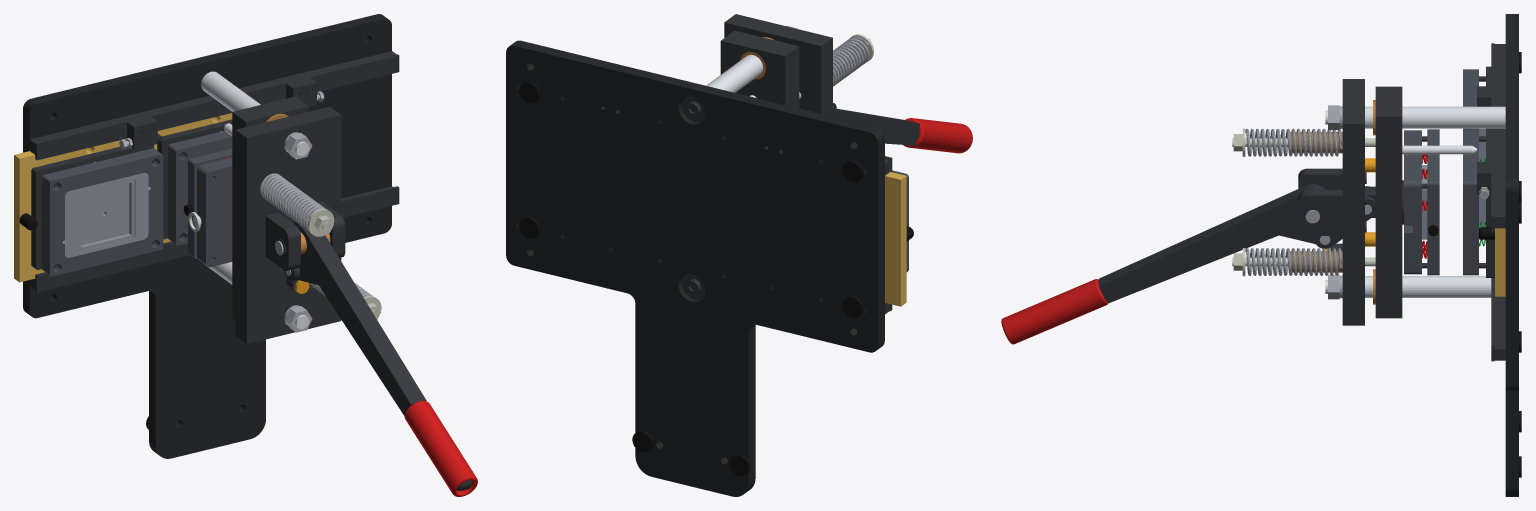
File: MagPress-M4_assembly.obj
3 renders of one model, left to right at view 1: azimuth 30°, elevation 25°; view 2: azimuth 150°, elevation 25°; view 3: azimuth 270°, elevation 25°, orthographic. The views are drawn at different scales.
Visible parts, largest first — view 1: MP-101_1, MP-108_1, MP-211-A_1, MP-113_1, MP-103-B_1, MP-201_1, MP-105_1, MP-207-6363_1, BUY-30_1, MP-103-F_1, MP-211-B_1, MP-206-6363_1 (+11 smaller); view 2: MP-101_1, MP-108_1, MP-109_1, MP-105_1, BUY-30_1, MP-113_1, BUY-20_2, MP-107_2; view 3: MP-113_1, MP-101_1, MP-109_1, MP-108_1, BUY-30_1, MP-107_2, MP-201_1, MP-211-B_1, MP-107_1, BUY-20_1, BUY-20_2, MP-102-B_1 (+11 smaller).
Boxes of the visible parts, x1,y1,x2,y2 form: MP-101_1: (23, 14, 391, 458); MP-108_1: (235, 106, 341, 343); MP-211-A_1: (42, 148, 163, 276); MP-113_1: (297, 226, 472, 491); MP-103-B_1: (35, 54, 399, 160); MP-201_1: (197, 157, 232, 267); MP-105_1: (14, 113, 232, 282); MP-207-6363_1: (65, 173, 148, 257); BUY-30_1: (404, 401, 477, 496); MP-103-F_1: (35, 186, 399, 292); MP-211-B_1: (168, 131, 232, 245); MP-206-6363_1: (81, 183, 129, 245); MP-101_1: (506, 40, 884, 496); MP-108_1: (724, 14, 832, 116); MP-109_1: (720, 30, 799, 108); MP-105_1: (885, 172, 906, 306); BUY-30_1: (903, 118, 972, 153); MP-113_1: (836, 108, 920, 145); BUY-20_2: (833, 36, 869, 86); MP-107_2: (706, 54, 762, 92); MP-113_1: (1098, 184, 1324, 303); MP-101_1: (1505, 14, 1518, 496); MP-109_1: (1375, 86, 1402, 318); MP-108_1: (1342, 79, 1364, 325); BUY-30_1: (1001, 279, 1107, 344); MP-107_2: (1325, 106, 1505, 128); MP-201_1: (1404, 130, 1421, 274); MP-211-B_1: (1463, 129, 1478, 275); MP-107_1: (1325, 276, 1491, 297); BUY-20_1: (1245, 248, 1342, 275); BUY-20_2: (1245, 128, 1342, 156); MP-102-B_1: (1494, 44, 1505, 228).
Bounding box in the file's own units: 480 × 470 × 585.
